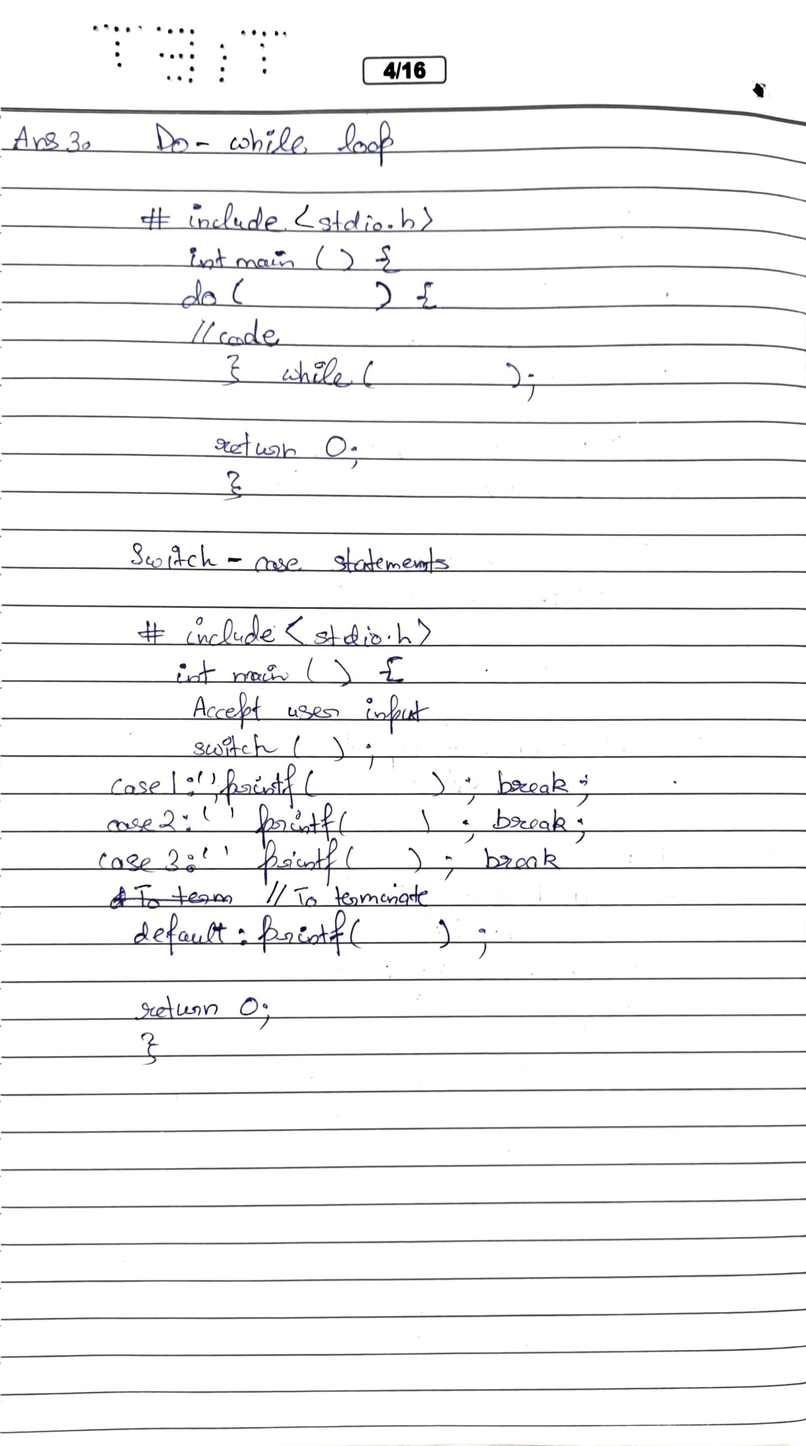cuttings: (105, 883, 239, 911)
